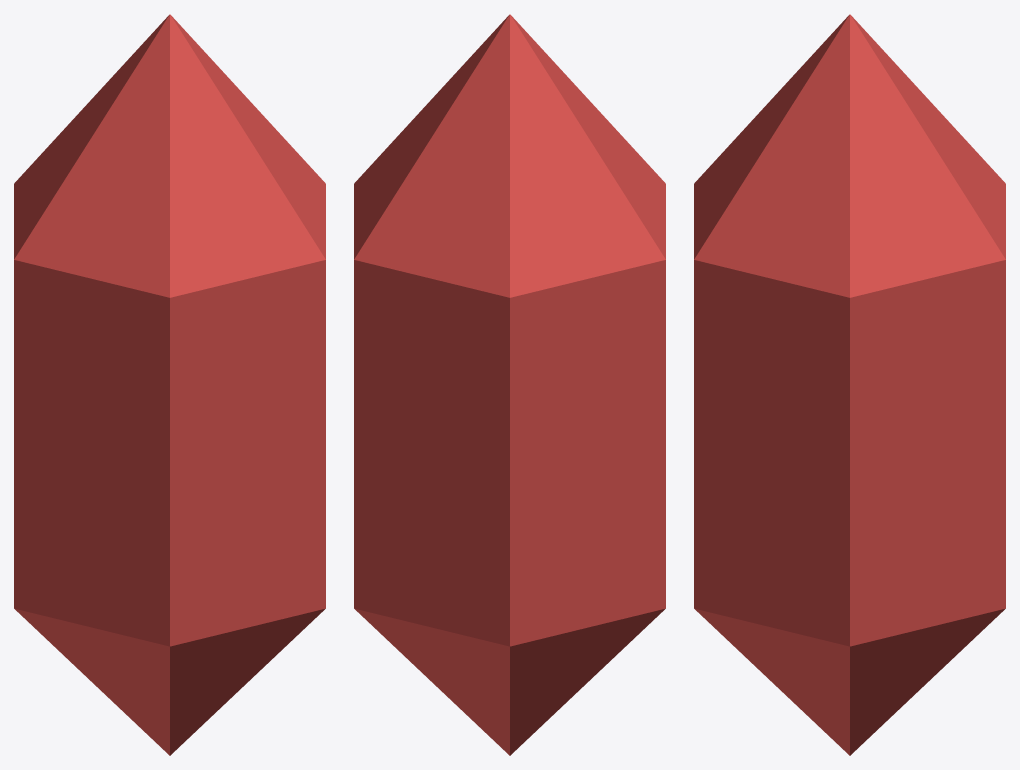
The model's file is Gema_Raro.fbx.
3 renders of one model, left to right at view 1: azimuth 30°, elevation 25°; view 2: azimuth 150°, elevation 25°; view 3: azimuth 270°, elevation 25°, orthographic.
Parts seen in each view (by area): view 1: Gema_Raro; view 2: Gema_Raro; view 3: Gema_Raro.
Part boxes in pixels (x1,y1,x2,y2): Gema_Raro: (14,14,325,755); Gema_Raro: (354,14,665,755); Gema_Raro: (694,14,1005,755).
Size of the model in its own units: 0.2464 by 0.56 by 0.2134.
